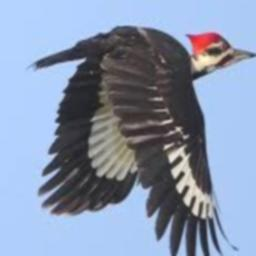Woodpecker: (25, 24, 255, 256)
